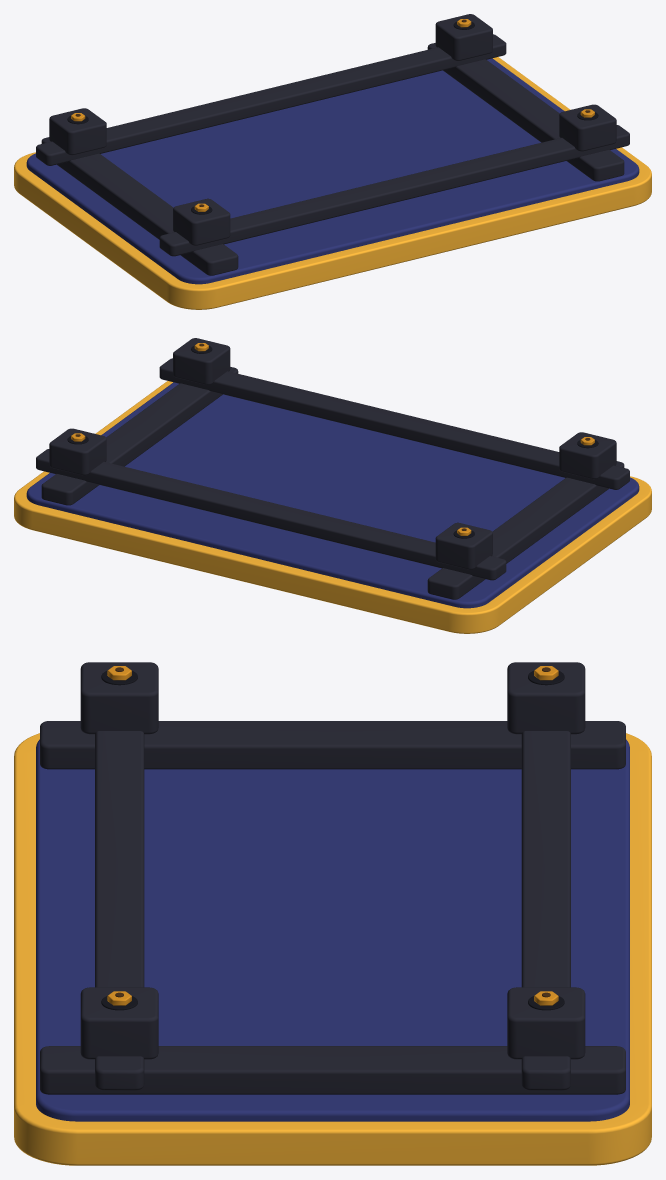
Rendered from CeilingPanel.glb.
3 views of the same model, one above another, from view 1: azimuth 30°, elevation 25°; view 2: azimuth 150°, elevation 25°; view 3: azimuth 270°, elevation 25° (orthographic). The views are drawn at different scales.
Visible parts, largest first — view 1: BlueBackingPanel, RoundedGoldPerimeter, RearCrossMember1, RearCrossMember0, RearRunner1, RearRunner0, MountBlock11, MountBlock00, MountBlock01, MountBlock10; view 2: BlueBackingPanel, RoundedGoldPerimeter, RearCrossMember0, RearCrossMember1, RearRunner1, RearRunner0, MountBlock10, MountBlock01, MountBlock00, MountBlock11; view 3: BlueBackingPanel, RoundedGoldPerimeter, RearRunner1, RearRunner0, RearCrossMember0, RearCrossMember1, MountBlock10, MountBlock11, MountBlock00, MountBlock01.
Boxes of the visible parts, bbox=[...] form: BlueBackingPanel: bbox=[26, 58, 639, 284]; RoundedGoldPerimeter: bbox=[14, 57, 651, 309]; RearCrossMember1: bbox=[159, 125, 629, 256]; RearCrossMember0: bbox=[36, 34, 506, 165]; RearRunner1: bbox=[427, 43, 624, 181]; RearRunner0: bbox=[41, 137, 238, 275]; MountBlock11: bbox=[559, 104, 616, 151]; MountBlock00: bbox=[49, 108, 106, 155]; MountBlock01: bbox=[173, 198, 230, 245]; MountBlock10: bbox=[435, 14, 492, 60]; BlueBackingPanel: bbox=[26, 382, 639, 608]; RoundedGoldPerimeter: bbox=[14, 381, 651, 633]; RearCrossMember0: bbox=[36, 449, 506, 580]; RearCrossMember1: bbox=[159, 358, 629, 489]; RearRunner1: bbox=[41, 367, 238, 505]; RearRunner0: bbox=[427, 461, 624, 599]; MountBlock10: bbox=[49, 428, 106, 475]; MountBlock01: bbox=[559, 432, 616, 479]; MountBlock00: bbox=[435, 522, 492, 569]; MountBlock11: bbox=[173, 338, 230, 384]; BlueBackingPanel: bbox=[36, 739, 629, 1121]; RoundedGoldPerimeter: bbox=[14, 733, 651, 1165]; RearRunner1: bbox=[40, 1046, 625, 1094]; RearRunner0: bbox=[40, 721, 625, 769]; RearCrossMember0: bbox=[521, 731, 570, 1090]; RearCrossMember1: bbox=[95, 731, 144, 1090]; MountBlock10: bbox=[507, 987, 585, 1059]; MountBlock11: bbox=[80, 987, 158, 1059]; MountBlock00: bbox=[507, 662, 585, 734]; MountBlock01: bbox=[80, 662, 158, 734].
Bounding box in the file's own units: 2.4 × 0.368 × 1.6.
Materials: 7 (7 with a texture image).
